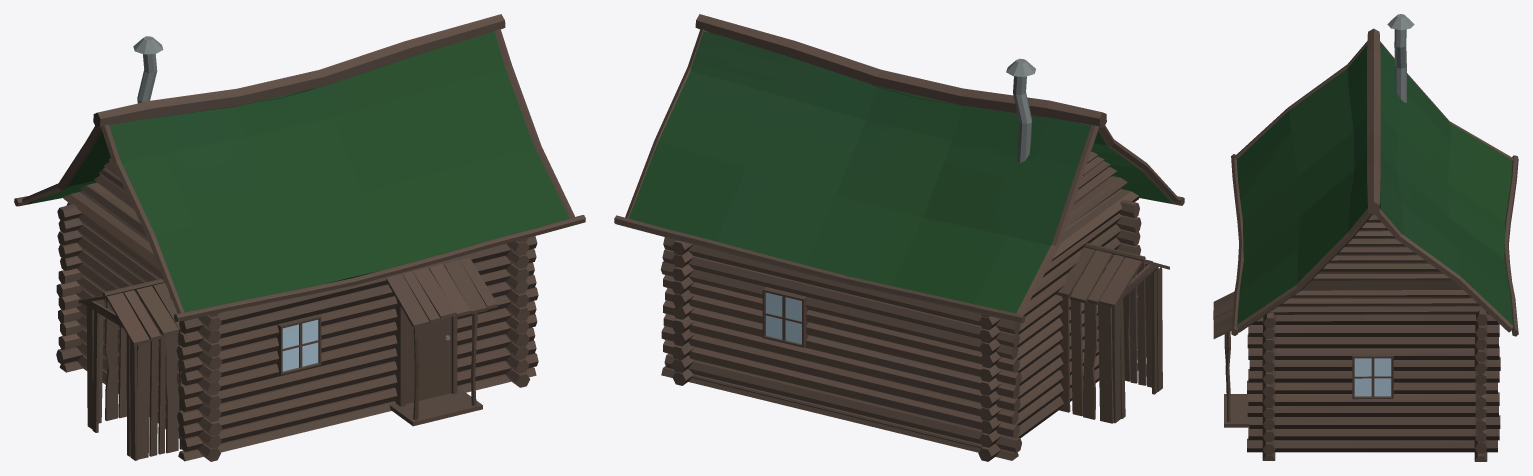
Rendered from cabin.glb.
The picture shows the model from 3 angles, left to right: view 1: azimuth 30°, elevation 25°; view 2: azimuth 150°, elevation 25°; view 3: azimuth 270°, elevation 25°; orthographic projection. The views are drawn at different scales.
Parts seen in each view (by area): view 1: Cabin_shed; view 2: Cabin_shed; view 3: Cabin_shed.
Part boxes in pixels (x1,y1,x2,y2): Cabin_shed: [14, 14, 585, 461]; Cabin_shed: [614, 14, 1184, 461]; Cabin_shed: [1213, 14, 1518, 461].
Size of the model in its own units: 0.4369 by 0.3504 by 0.3096.
Materials: 1 (1 with a texture image).
